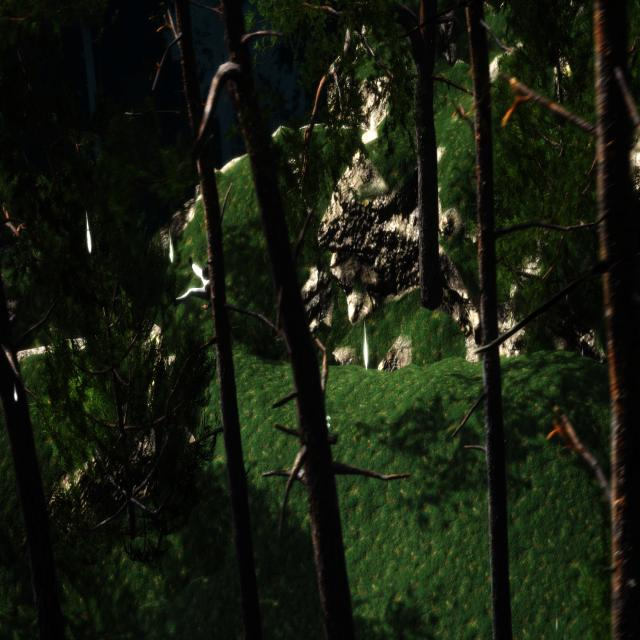Human: (173, 256, 214, 315)
